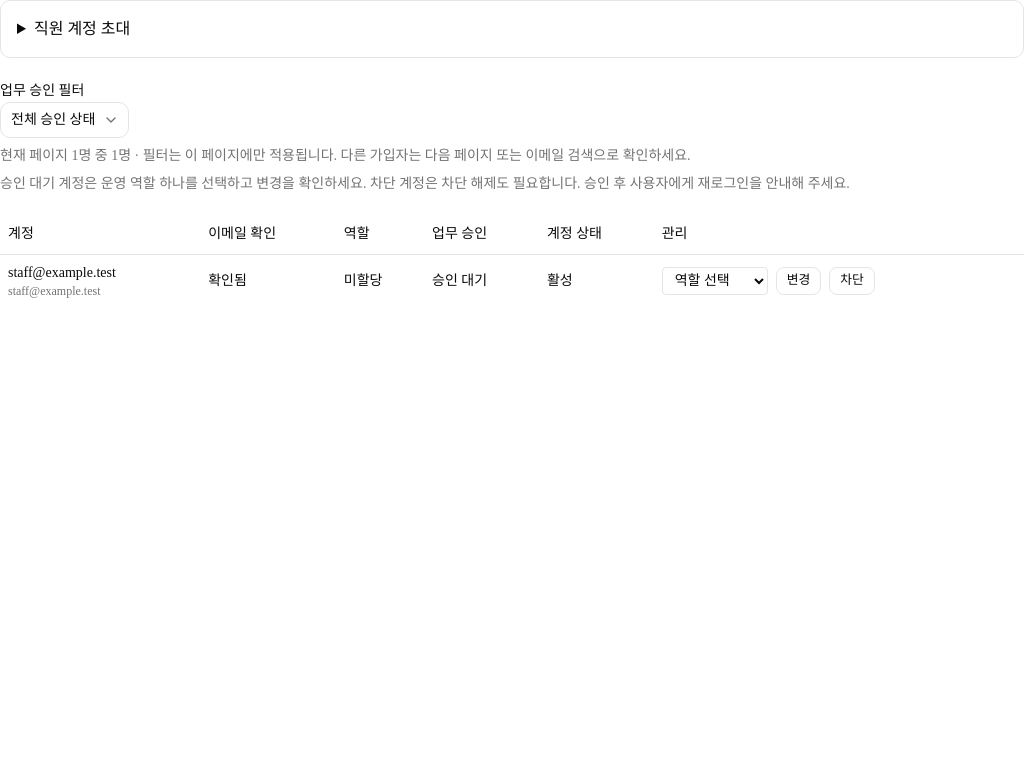
Test: requires themed confirmation and prevents duplicate requests while pending
Click the button "차단".
click(852, 280)  # box [829, 266, 875, 294]
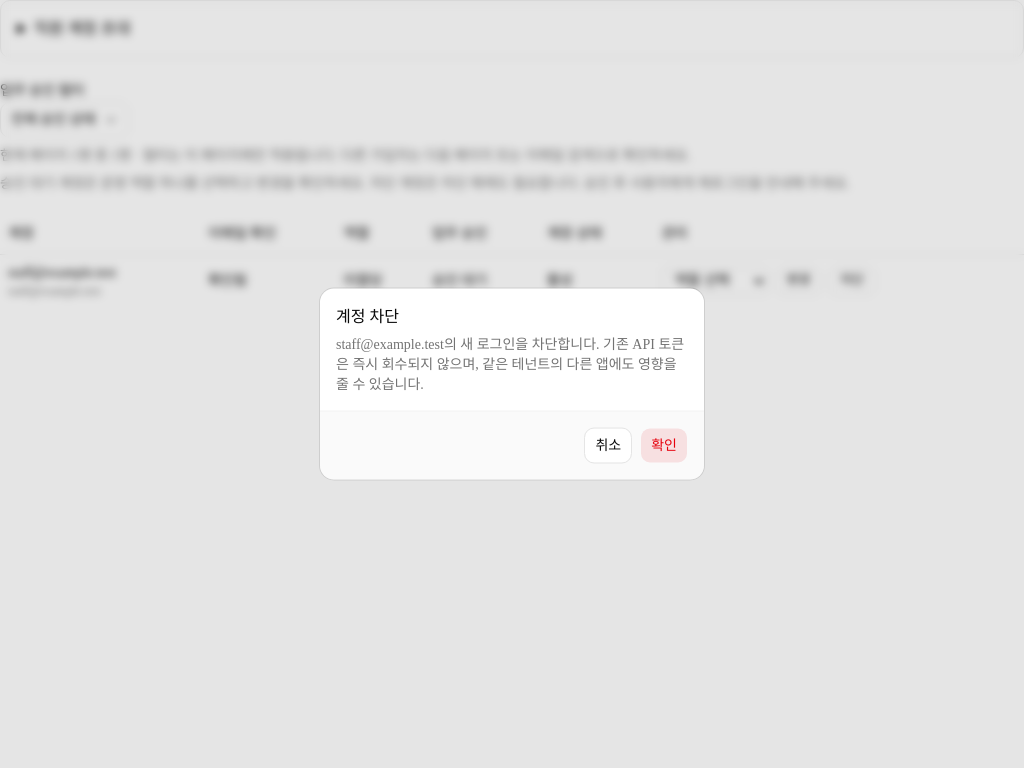
Expected: the dialog "계정 차단" is shown, [320, 288, 704, 480]
Click the button "확인".
click(664, 446)  # box [640, 428, 688, 464]
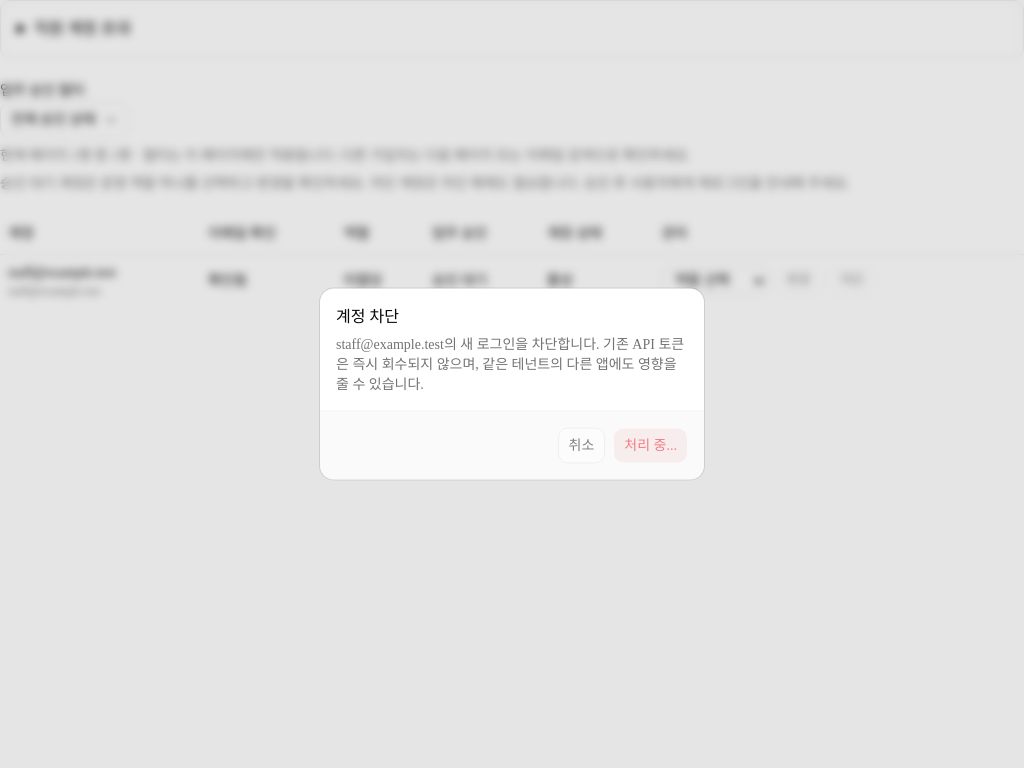
Expected: the button "취소" is disabled, [558, 428, 605, 464]
Expected: the button "처리 중..." is disabled
Click the button "처리 중...".
click(651, 446)  # box [613, 428, 688, 464]
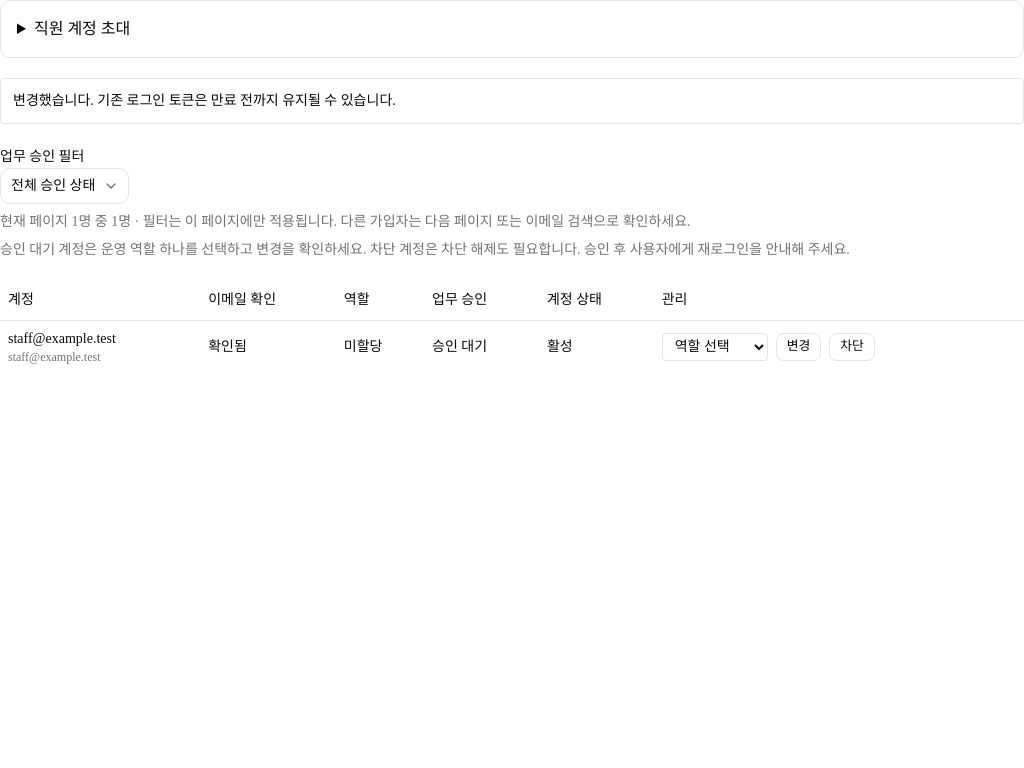
Expected: the dialog is gone
